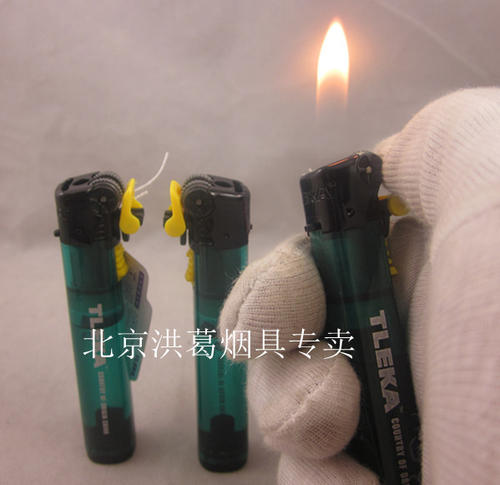fire: (285, 2, 382, 163)
